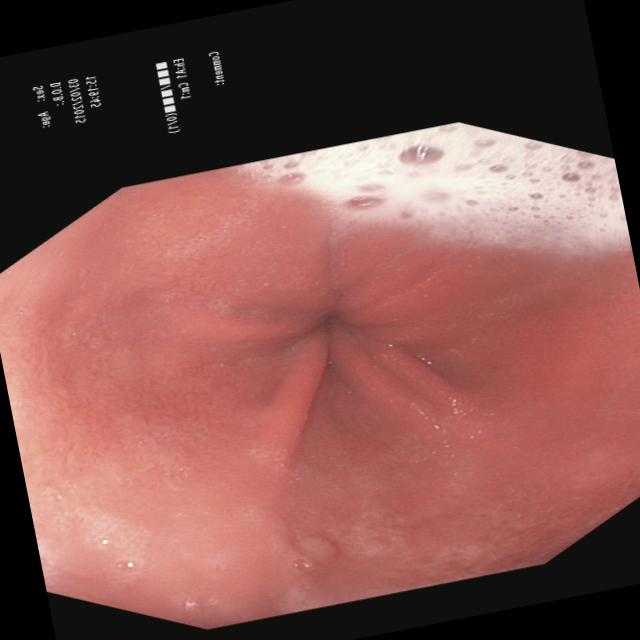Normal-Z-Line: (7, 169, 608, 477)
